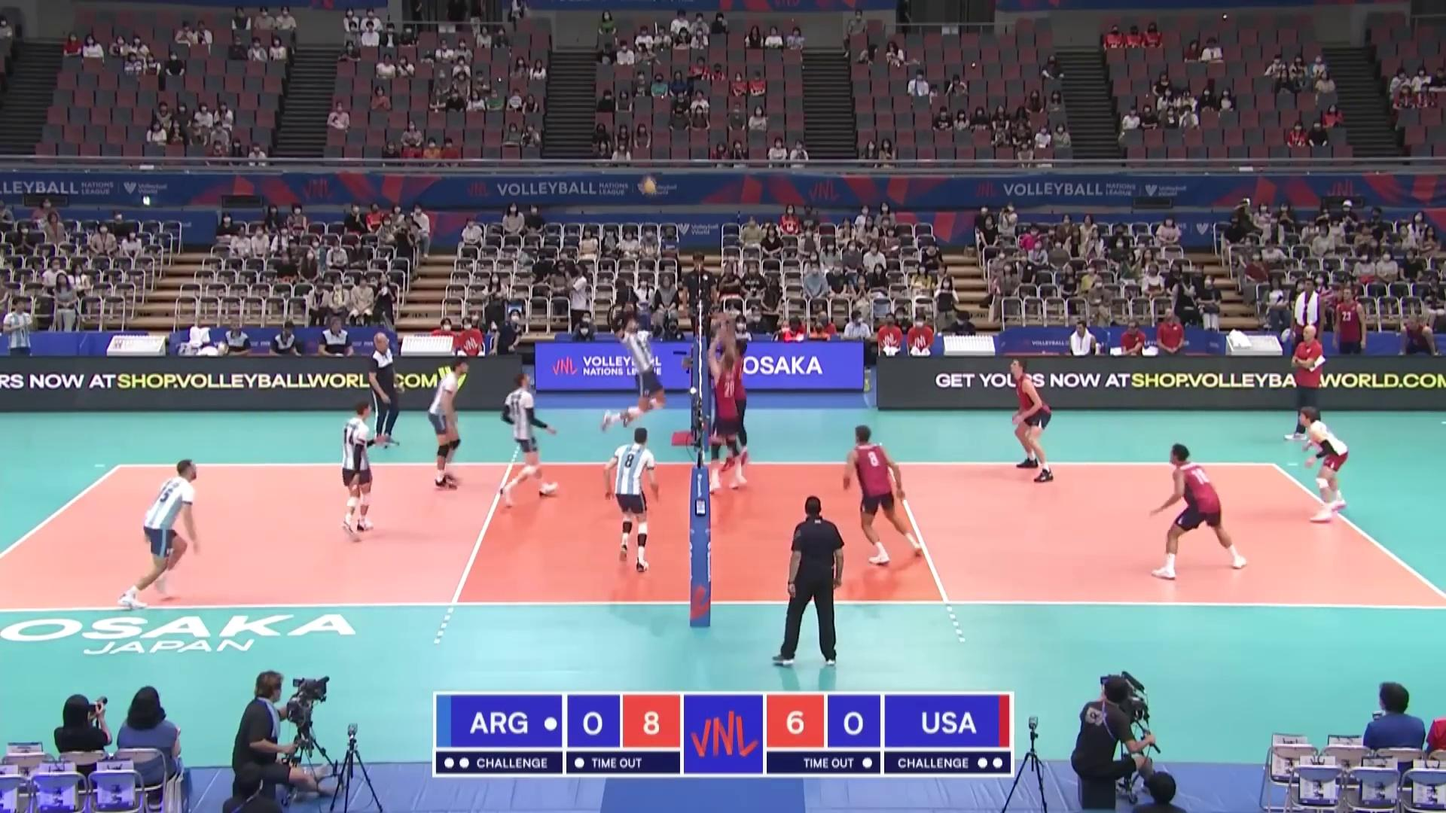player: (1143, 443, 1245, 577), (842, 426, 926, 567), (120, 459, 199, 608), (494, 370, 560, 506), (602, 302, 669, 427), (604, 426, 659, 576), (1295, 407, 1349, 521), (1006, 358, 1053, 482), (709, 354, 750, 494), (339, 399, 379, 539), (430, 354, 468, 492), (717, 318, 749, 471)
refree: (776, 497, 848, 668), (682, 252, 718, 352)
